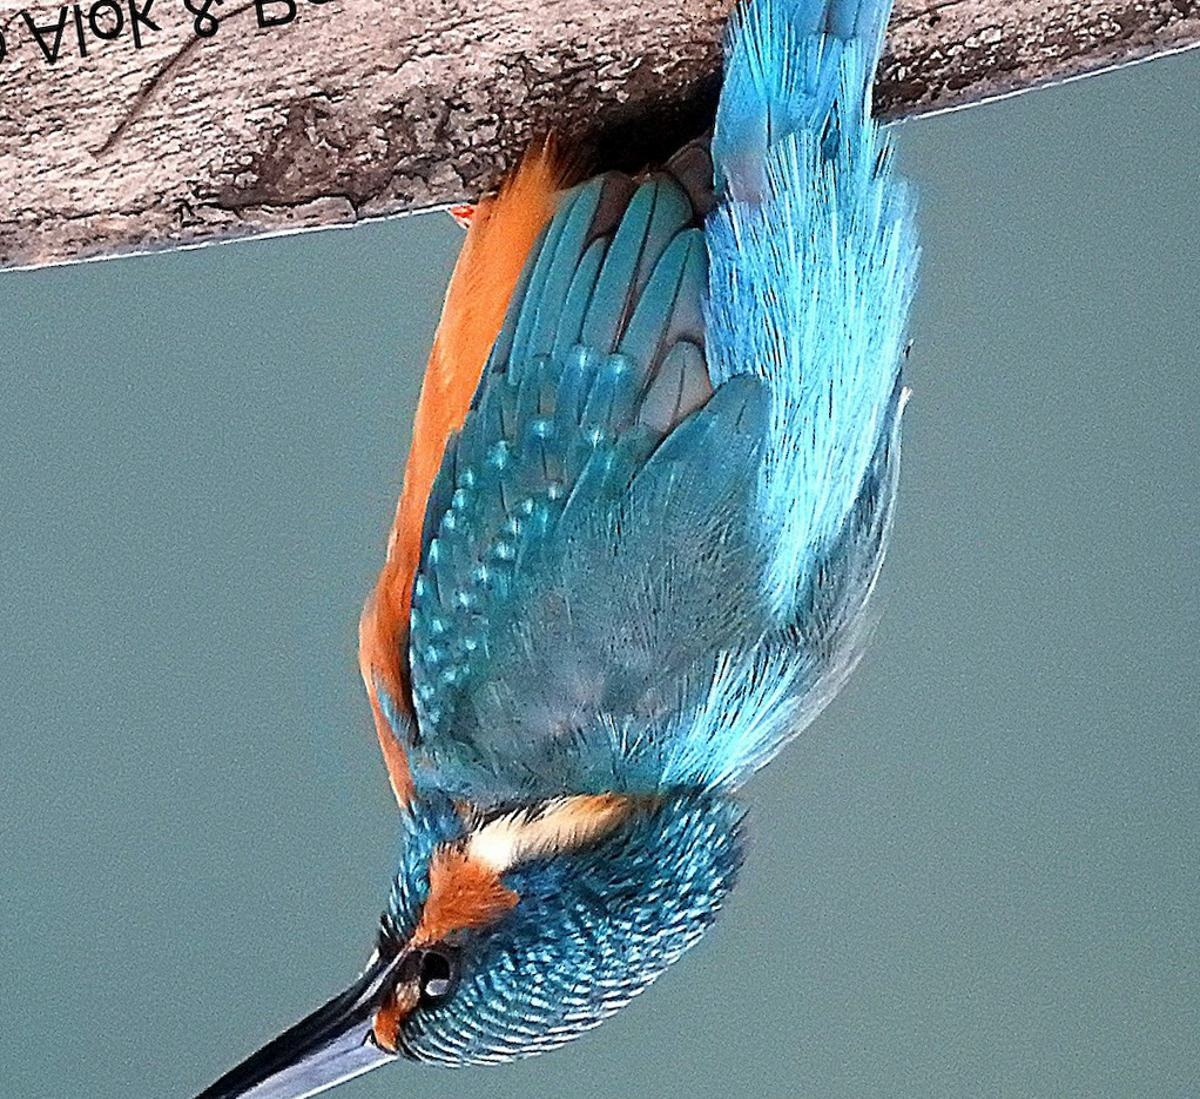kingfisher: (152, 1, 985, 1094)
